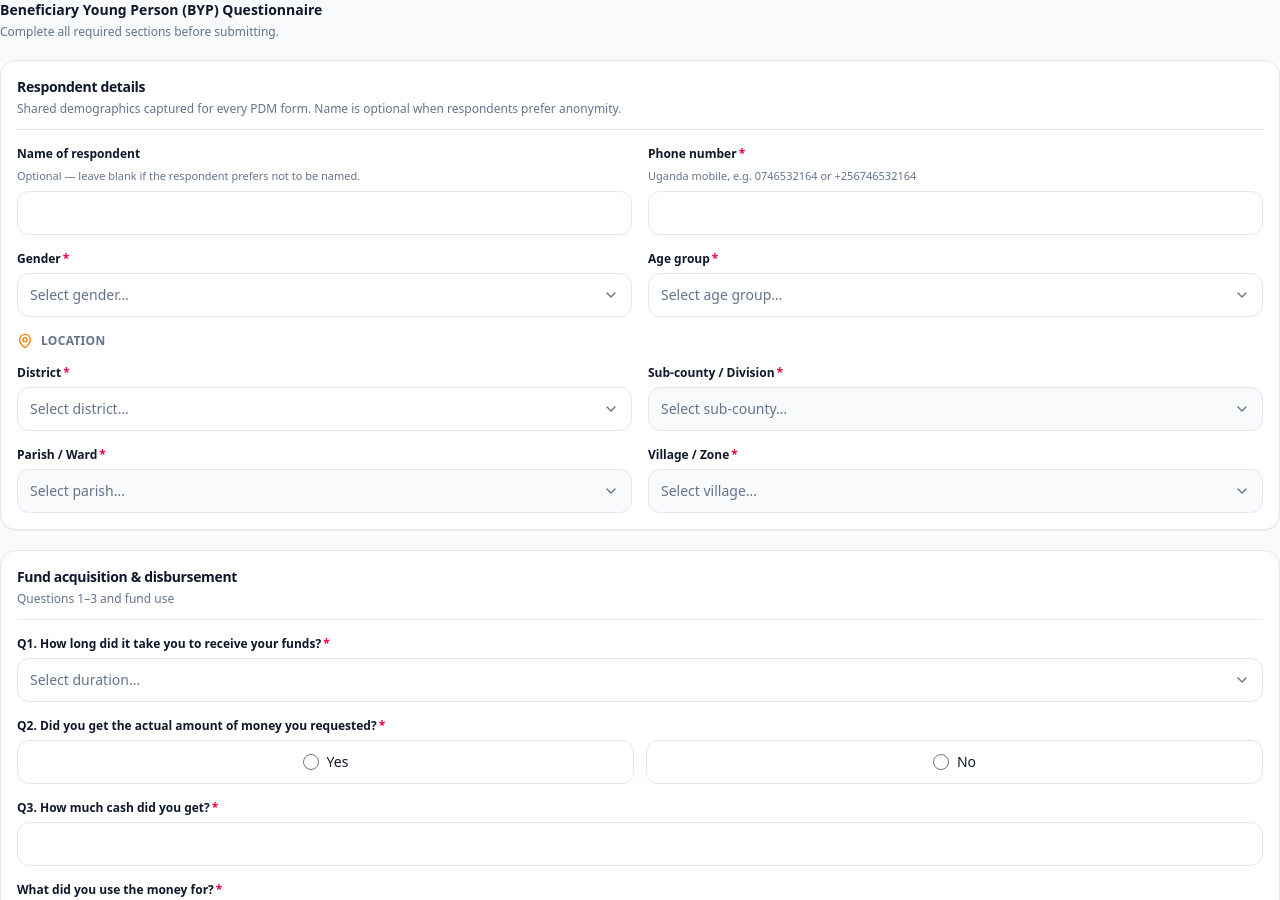
Test: BypForm › shows specify field when Q1 is Months (specify) (TC-FORM-02-02)
This screenshot has width=1280, height=900.
Click the dropdown named "Q1. How long did it take you to receive your funds" at (85,679), box [17,658,1263,702]
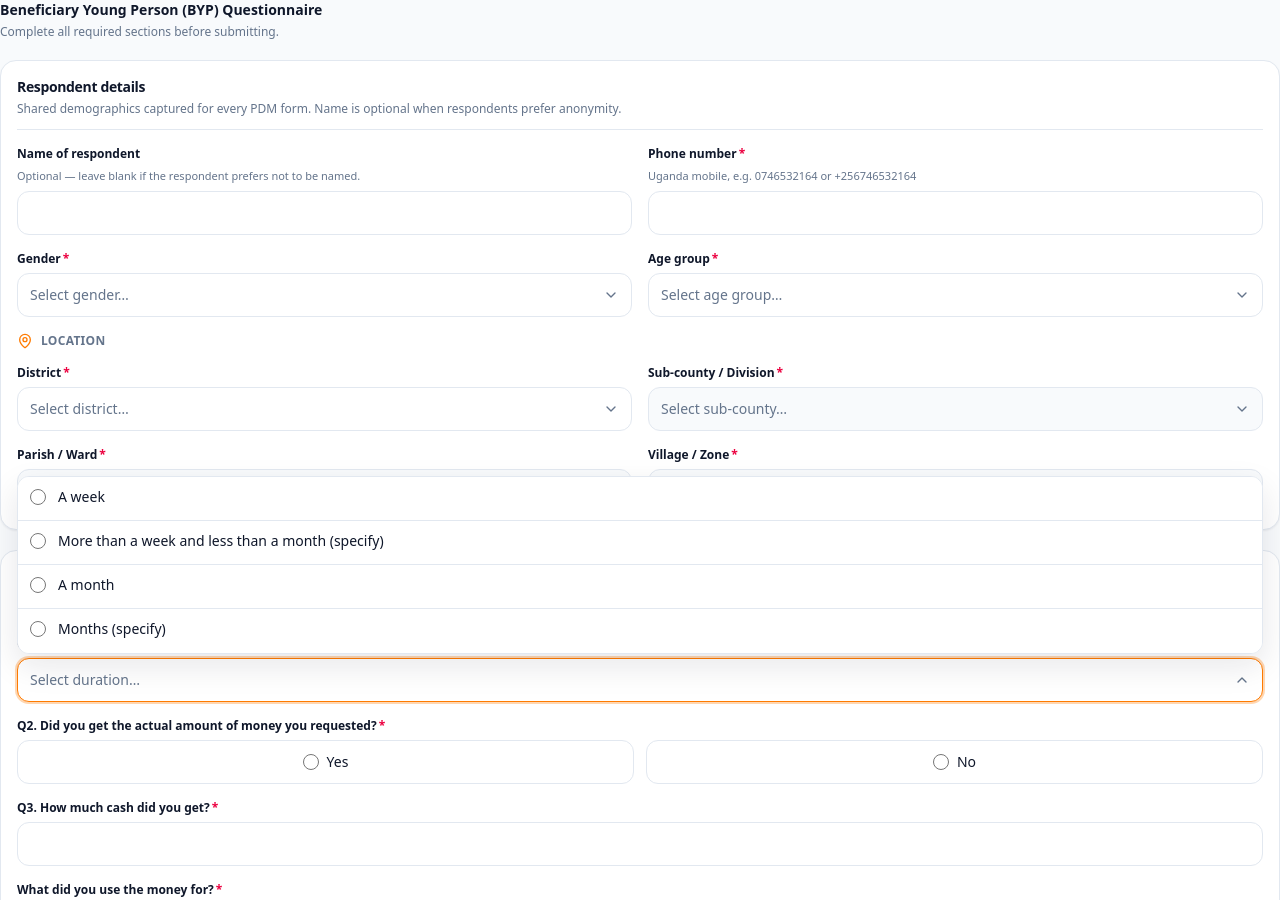
Click the radio button showing "MONTHS" at (38,628), box [30,620,46,636]
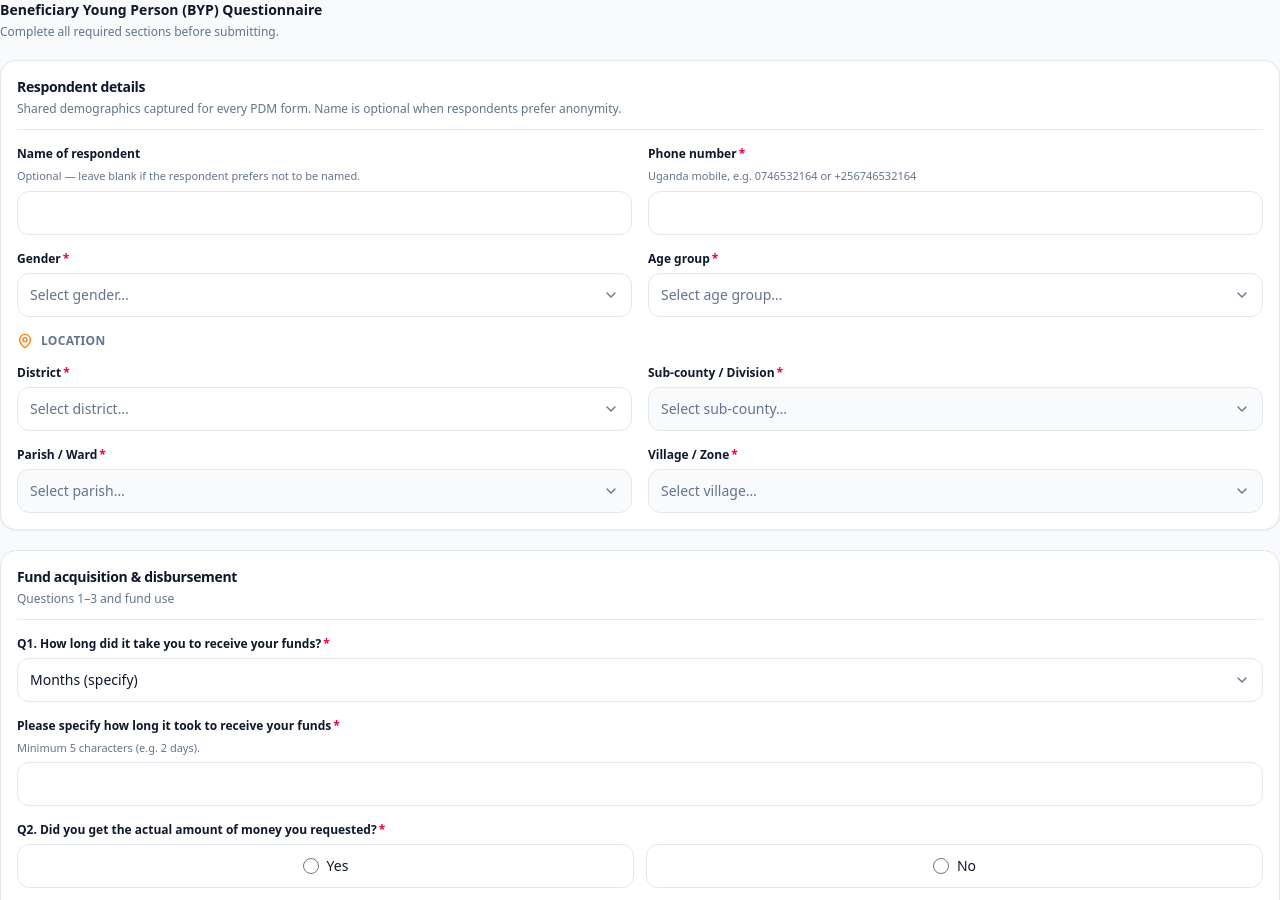
Check: the field labelled "Please specify how long it took to receive your funds*" is shown, box [17,762,1263,806]
